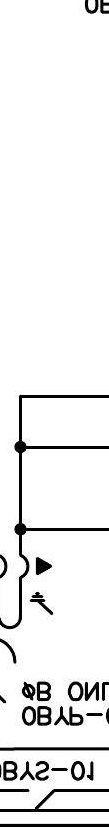115_ds: (25, 788, 55, 809)
